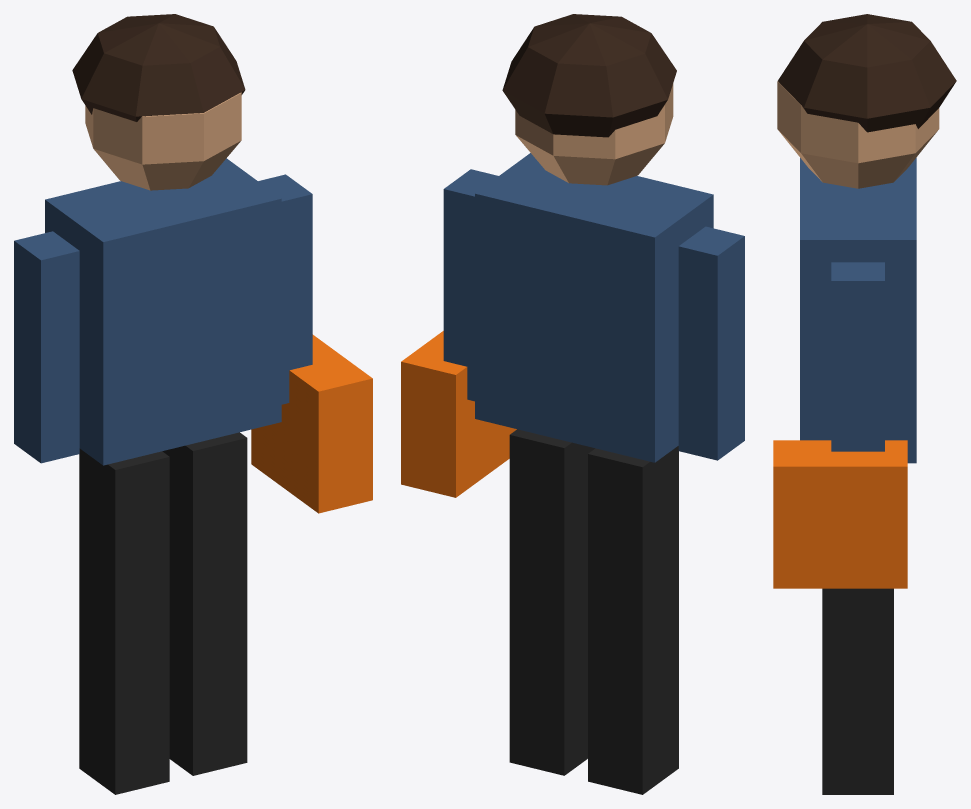
File: welt_passant.glb
The picture shows the model from 3 angles, left to right: view 1: azimuth 30°, elevation 25°; view 2: azimuth 150°, elevation 25°; view 3: azimuth 270°, elevation 25°; orthographic projection.
Visible parts, largest first — view 1: welt_passant; view 2: welt_passant; view 3: welt_passant.
Part boxes in pixels (<box>): welt_passant: <box>14,14,372,794</box>; welt_passant: <box>401,14,744,794</box>; welt_passant: <box>773,14,956,794</box>.
Bounding box in the file's own units: 0.78 × 1.82 × 0.41.
